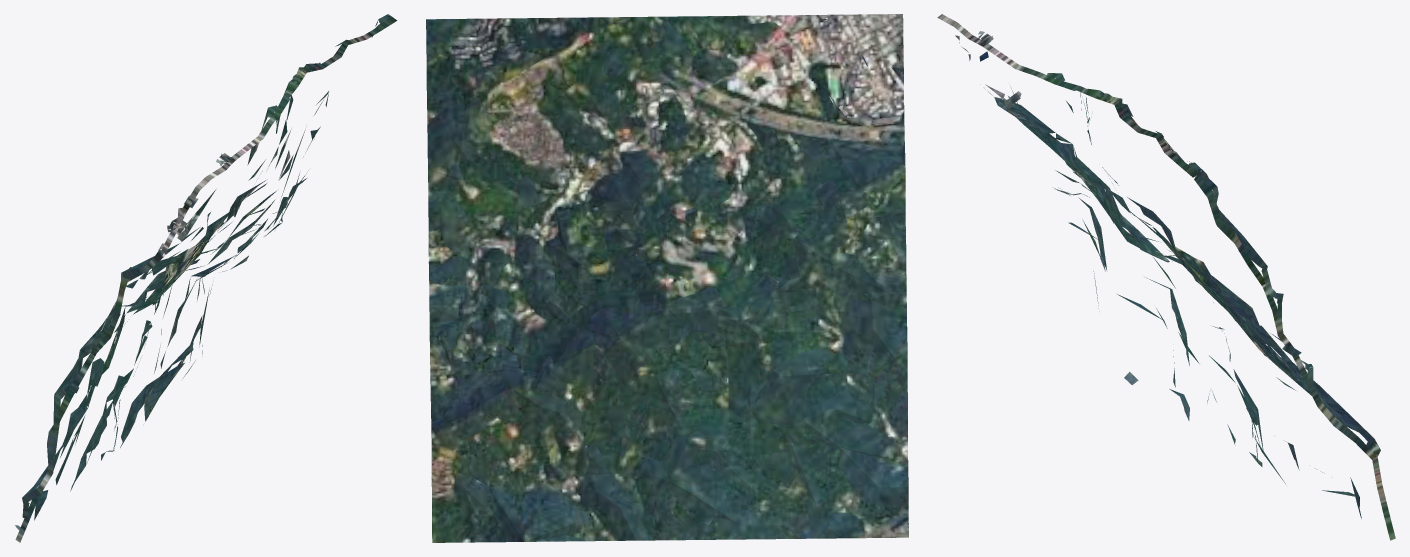
3 renders of one model, left to right at view 1: azimuth 30°, elevation 25°; view 2: azimuth 150°, elevation 25°; view 3: azimuth 270°, elevation 25°, orthographic. The views are drawn at different scales.
Size of the model in its own units: 2420 by 2287 by 2175.
2 materials, 2 textured.
